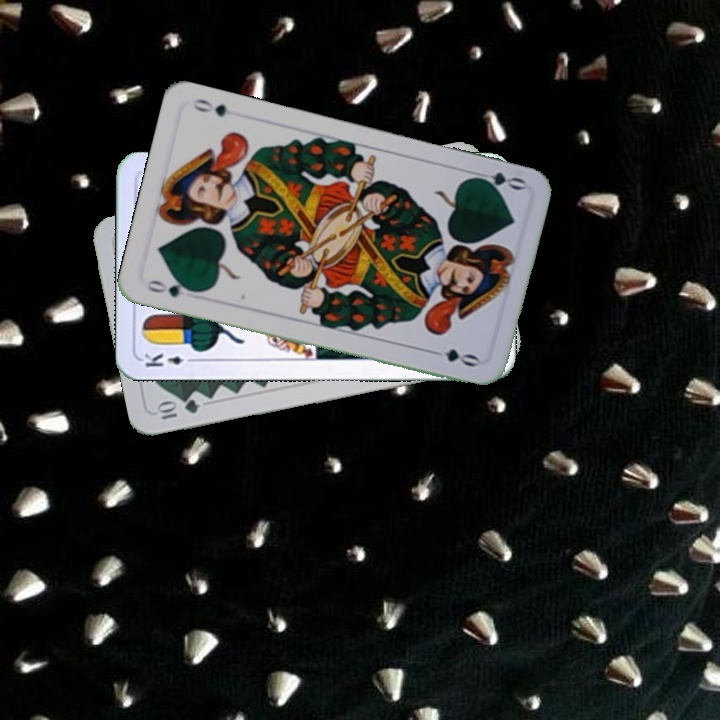EK: (140, 349, 199, 370)
G10: (152, 395, 202, 422)
GO: (467, 167, 528, 194), (143, 276, 201, 300)
